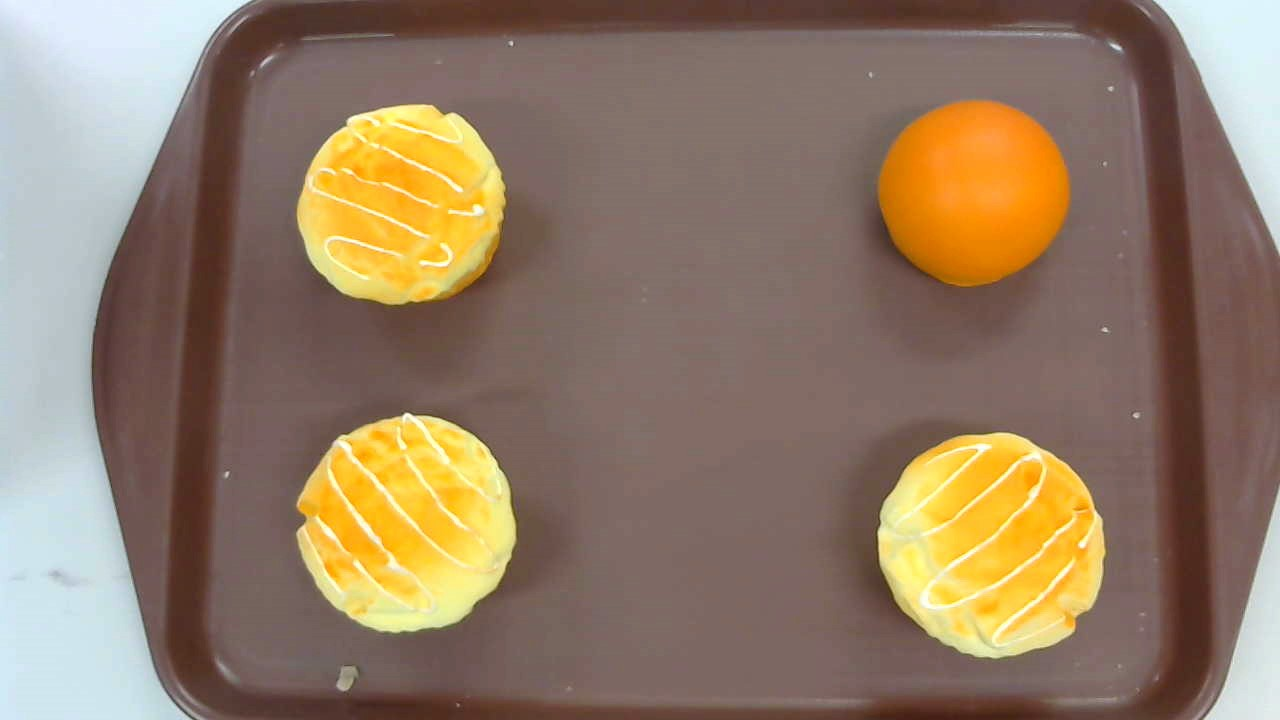bun: (877, 98, 1070, 287)
cupcake: (877, 430, 1105, 659), (296, 413, 519, 634), (296, 101, 506, 307)
